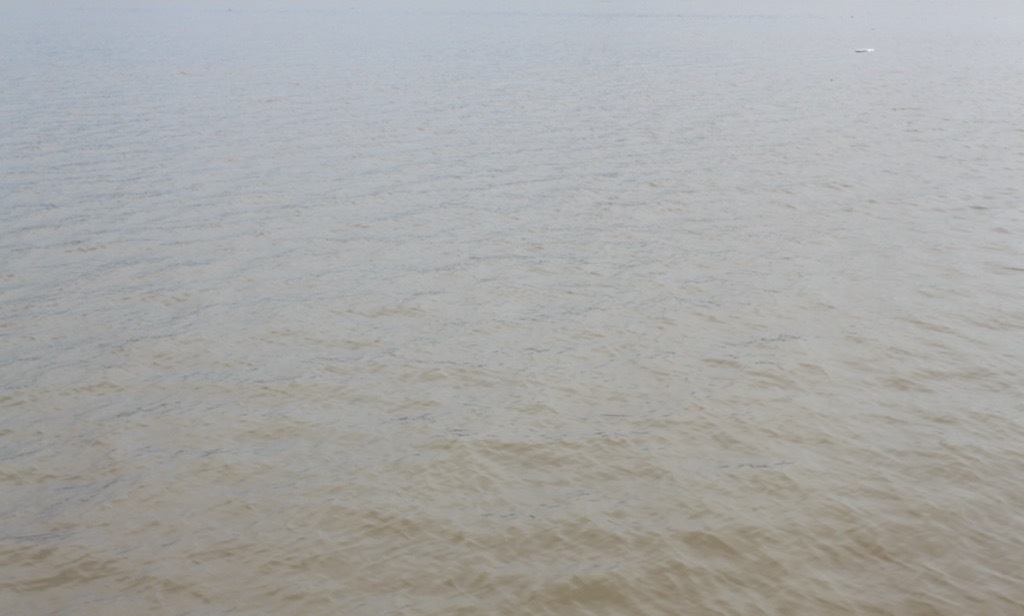plastic: (850, 37, 882, 62)
